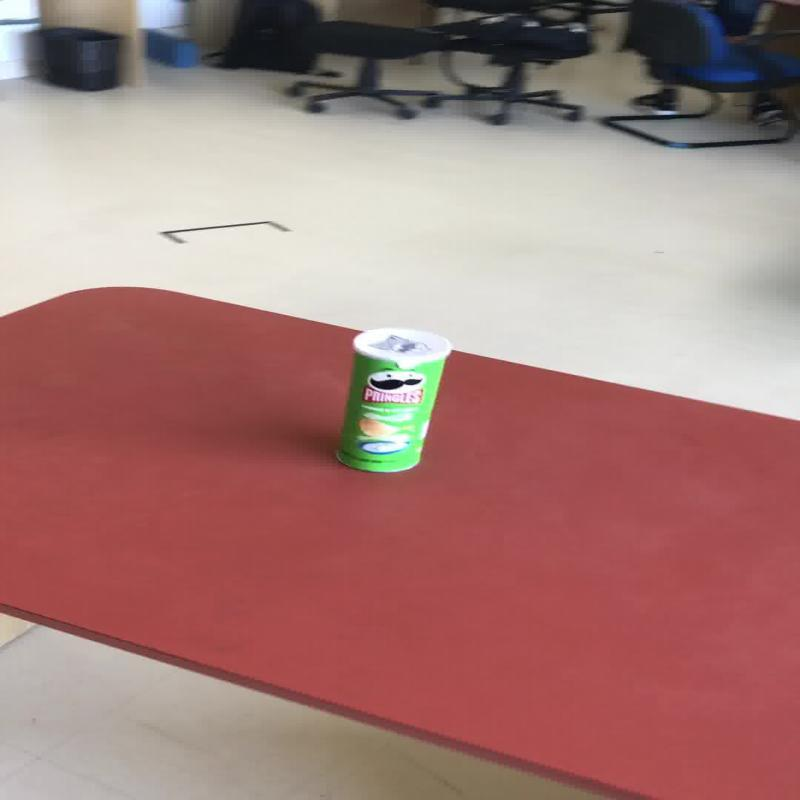pringles: (332, 326, 451, 472)
